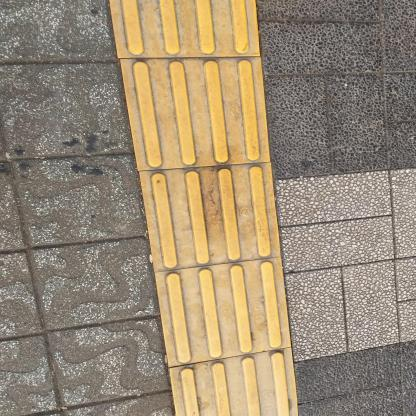podotacti: (96, 0, 307, 415)
